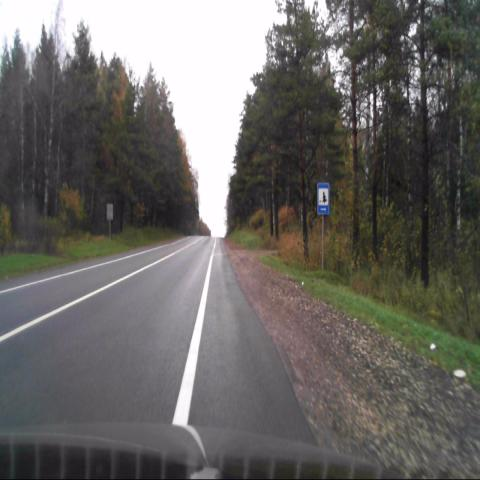7_11: (317, 183, 329, 214)
